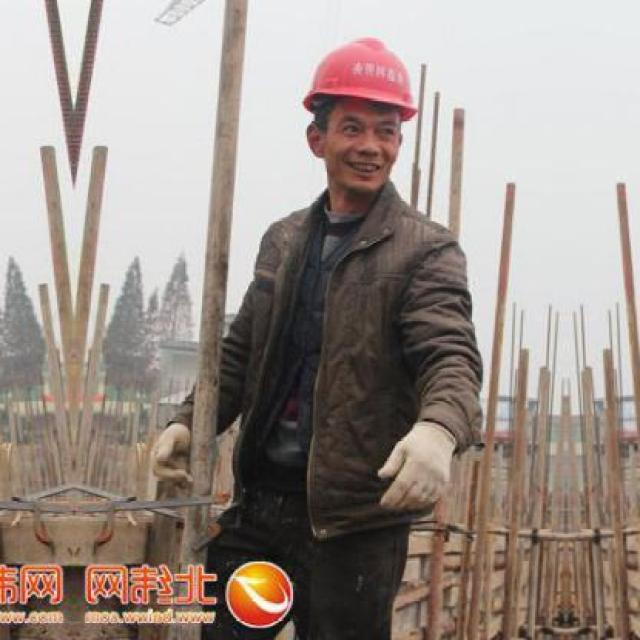safetyhelmet: (296, 34, 420, 173)
